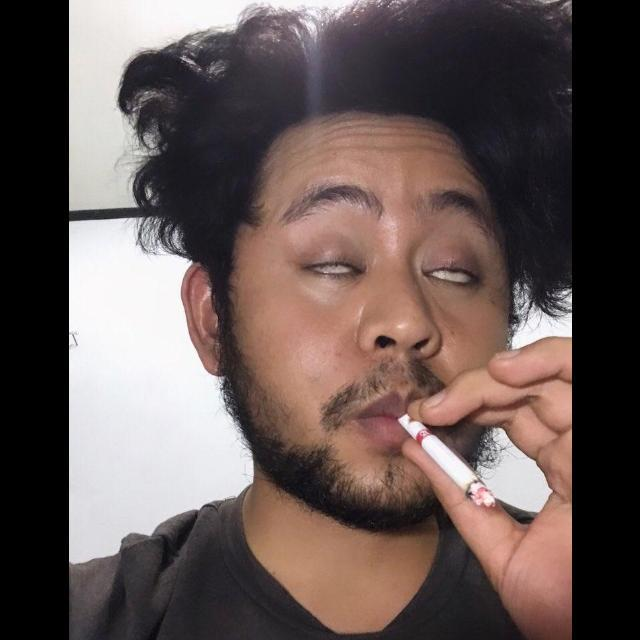rokok: (384, 392, 496, 514)
